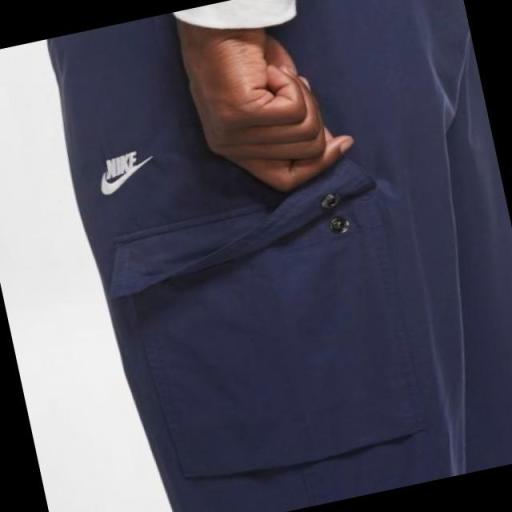Nike: (94, 164, 154, 198), (100, 149, 143, 182)
